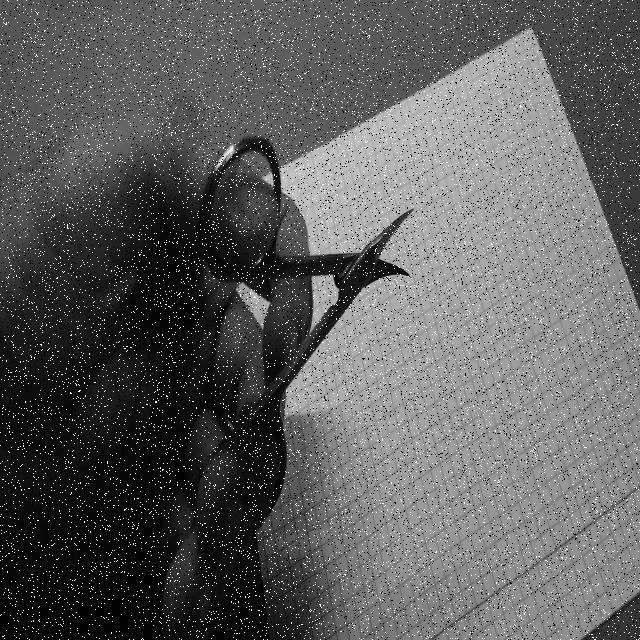scissors: (195, 126, 418, 529)
